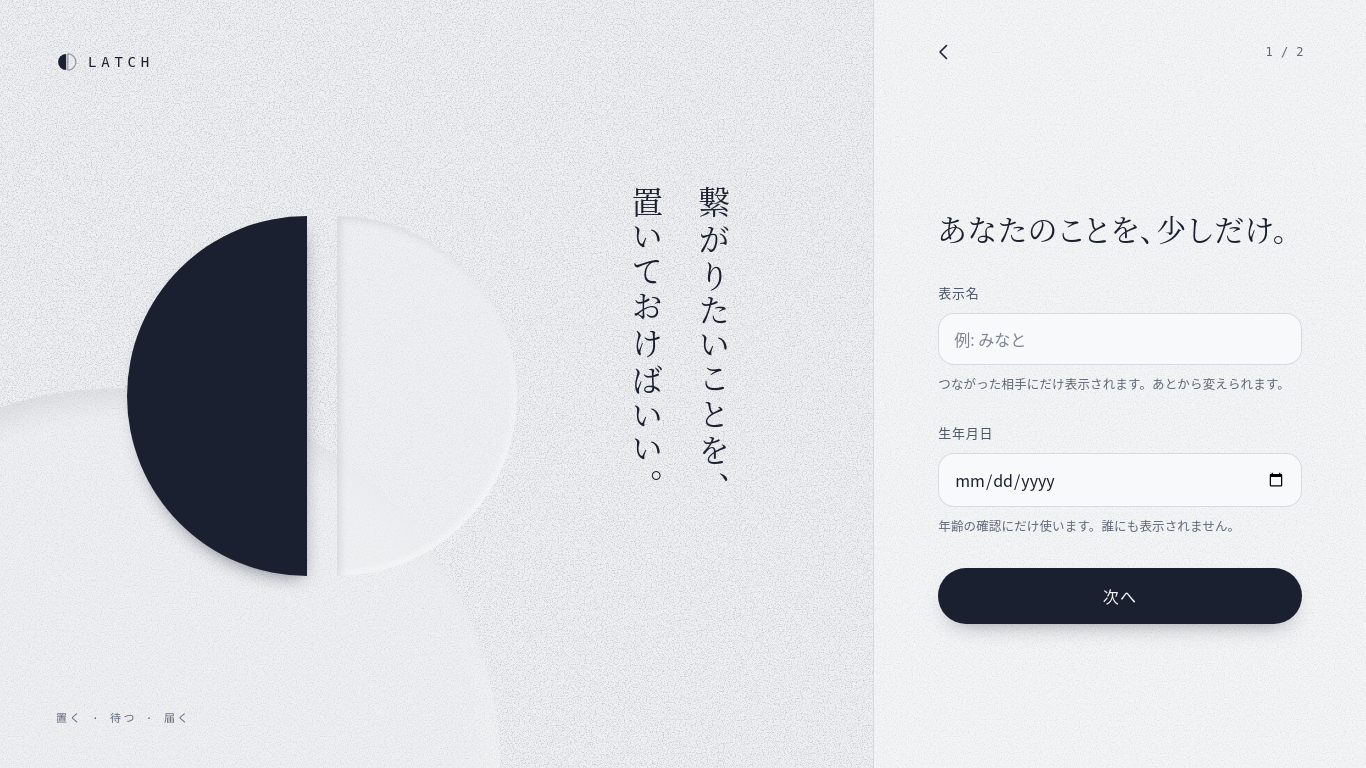
Test case: Register › 空欄では送信できず・表示名の必須エラーを出す(APIも呼ばない)
Click the button "次へ" at (1120, 596), box [938,568,1302,624]
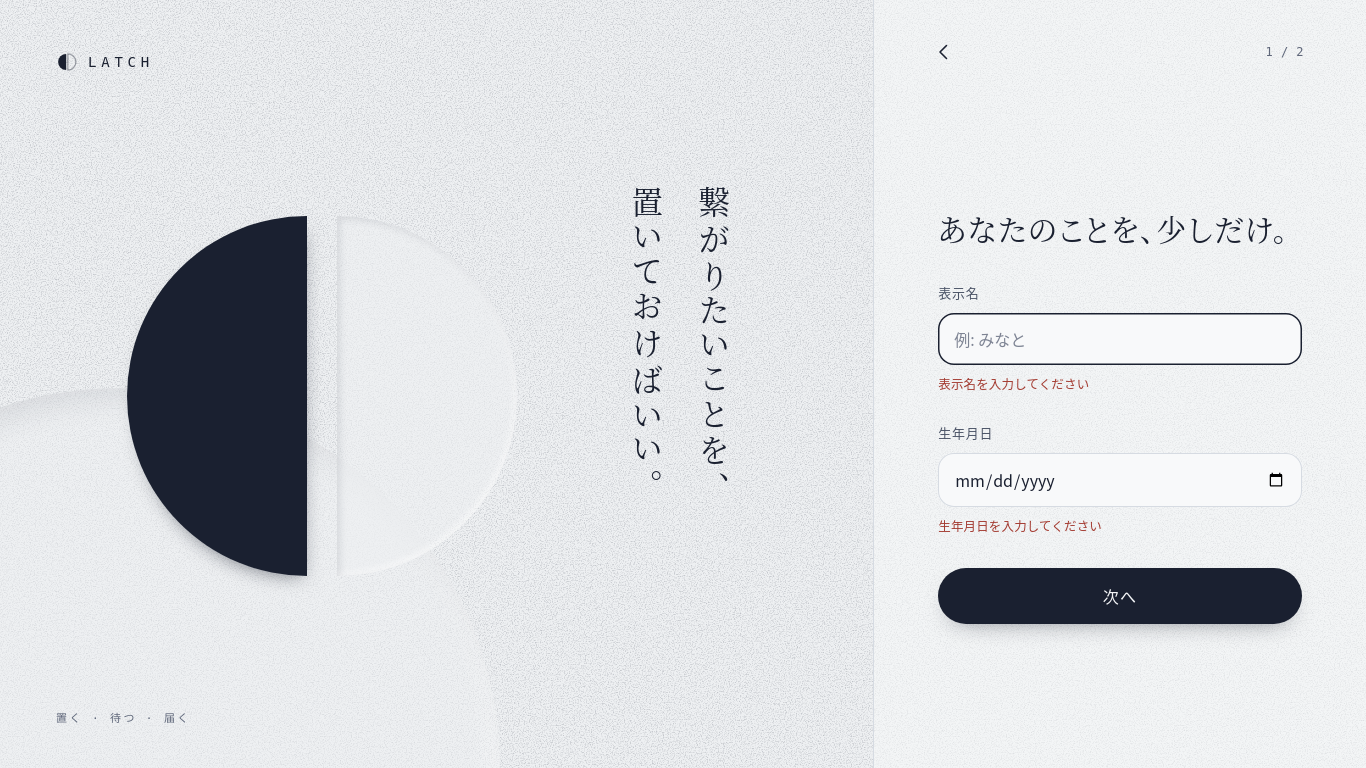
Expected: the text "表示名を入力してください" is shown, [938,374,1089,393]
Expected: the text "生年月日を入力してください" is shown, [938,516,1102,535]
